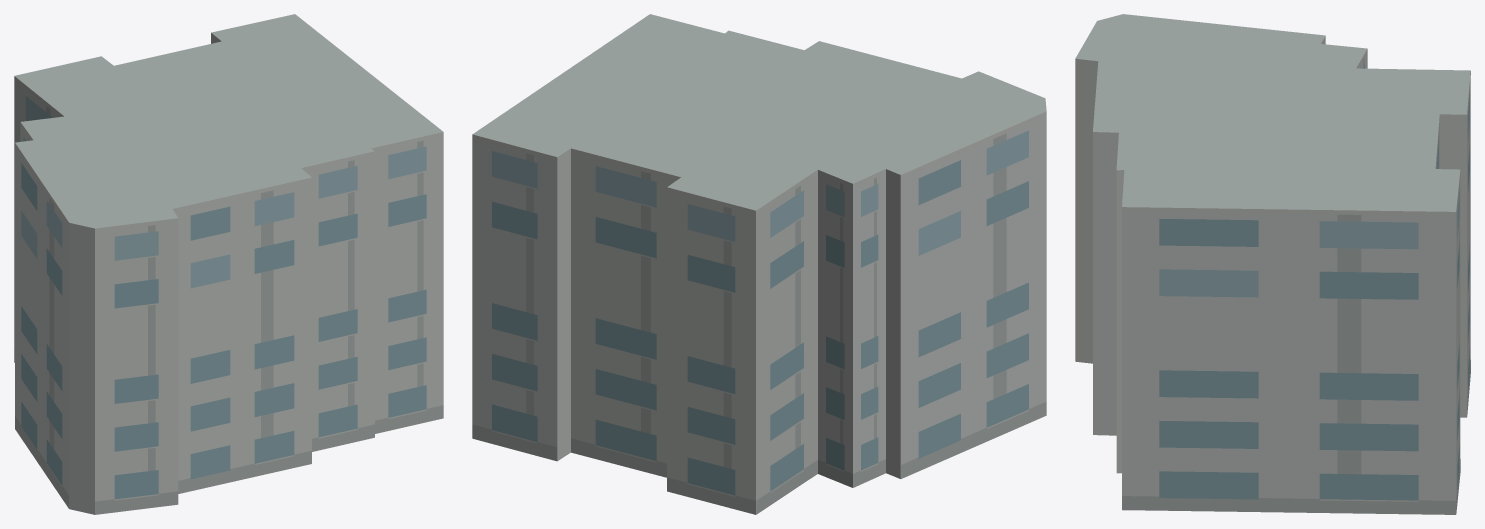
File: survey-upis-32833050.glb
3 renders of one model, left to right at view 1: azimuth 30°, elevation 25°; view 2: azimuth 150°, elevation 25°; view 3: azimuth 270°, elevation 25°, orthographic. The views are drawn at different scales.
Visible parts, largest first — view 1: survey-upis-32833050.tmp; view 2: survey-upis-32833050.tmp; view 3: survey-upis-32833050.tmp.
Boxes of the visible parts, left/top/right/bottom form: survey-upis-32833050.tmp: left=14, top=14, right=443, bottom=514; survey-upis-32833050.tmp: left=472, top=14, right=1046, bottom=514; survey-upis-32833050.tmp: left=1075, top=14, right=1470, bottom=514.
Size of the model in its own units: 23.54 by 16.8 by 19.89.
